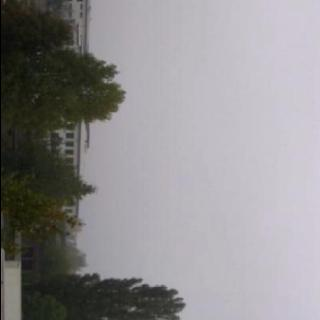Stratus: (171, 0, 320, 320)
